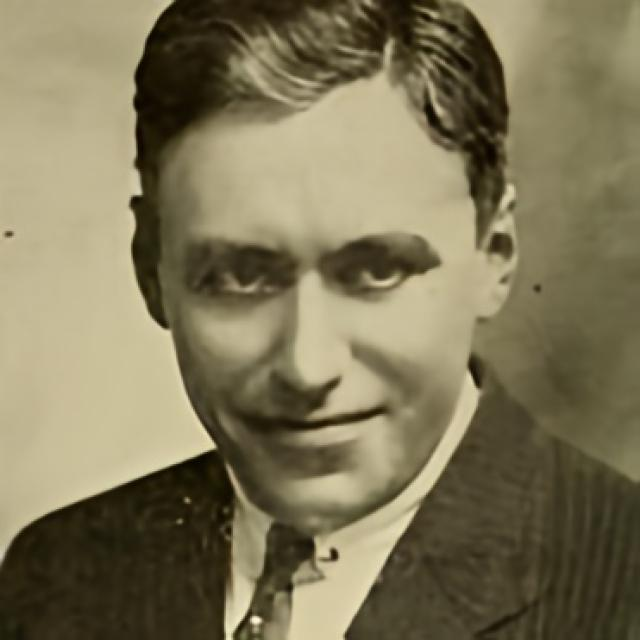content: (162, 88, 475, 536)
